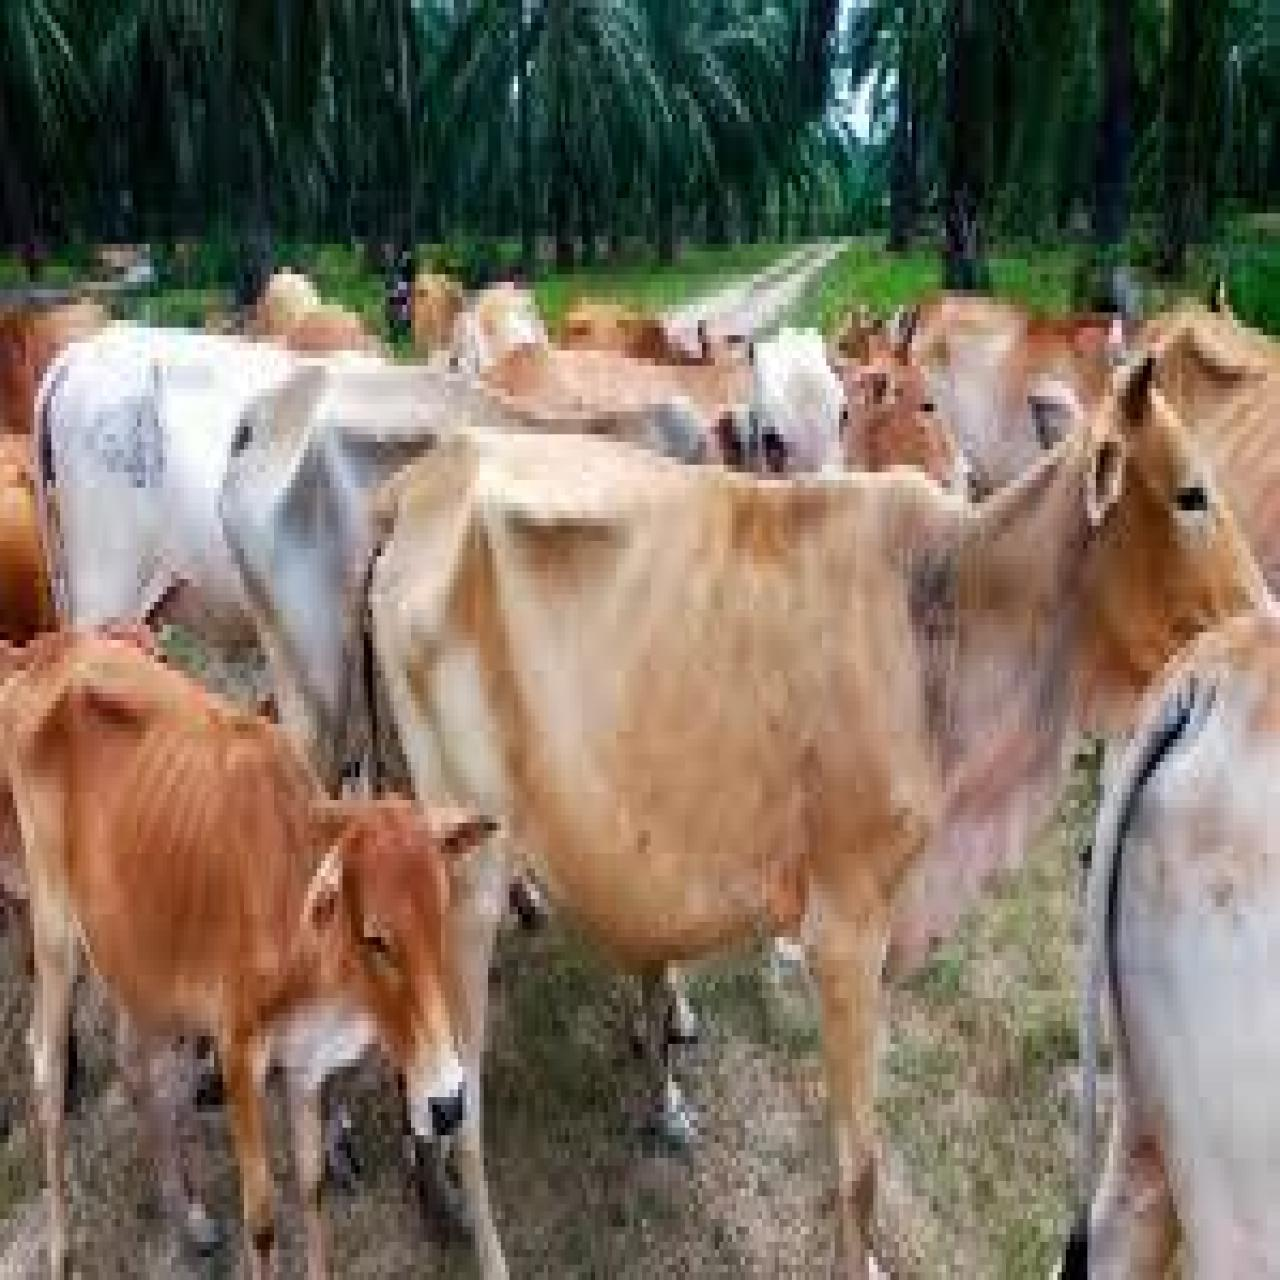cow: (355, 343, 1280, 1280), (2, 617, 498, 1280), (218, 324, 852, 835), (1057, 602, 1280, 1280), (30, 324, 334, 644), (1114, 301, 1280, 613), (899, 293, 1135, 498), (831, 301, 993, 506)
